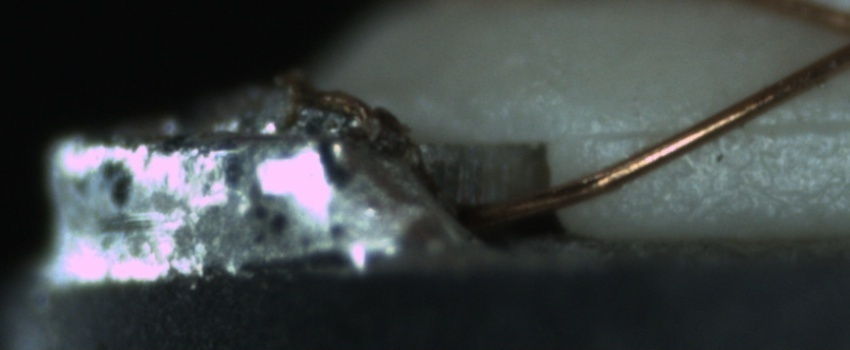DL: (571, 99, 847, 162)
TE: (297, 77, 390, 130)
